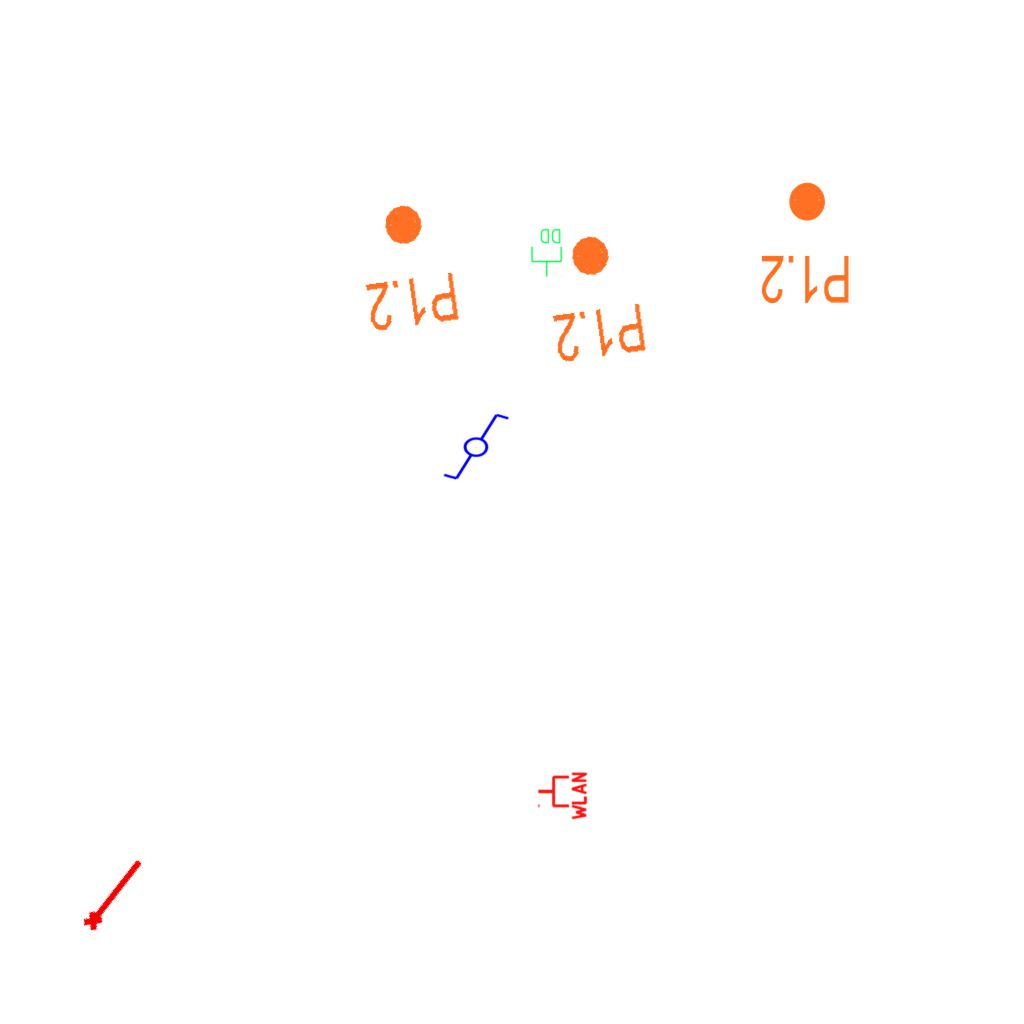ASR_Ansaugoeffnung: (76, 851, 150, 936)
Datenanschluss_zweifach: (530, 227, 564, 278)
Downlight_LED_Einbauleuchten_Flur: (352, 196, 463, 336), (539, 227, 650, 367), (759, 179, 852, 307)
WLAN: (536, 770, 588, 822)
Wechselschalter: (433, 410, 511, 482)
